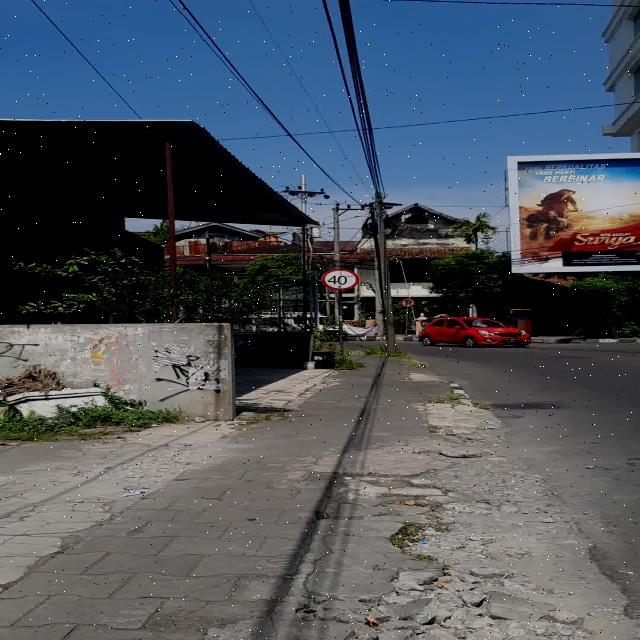Kecepatan Maks. 40 km: (322, 268, 359, 290)
